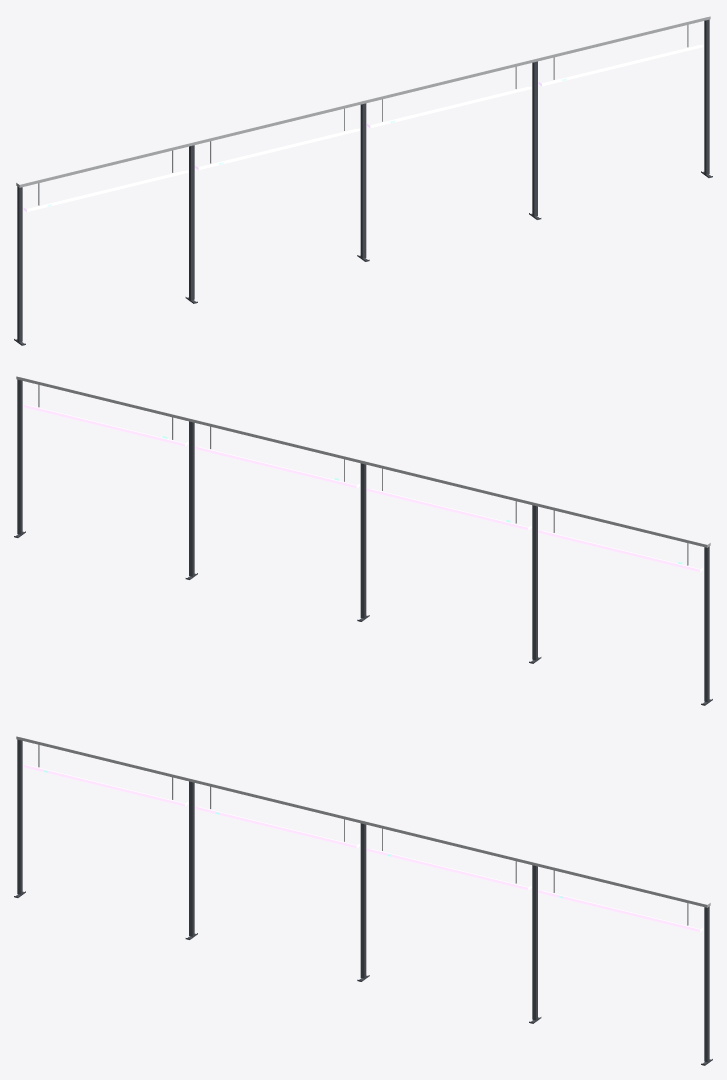
Rendered from ext_grow_light_rack_05.glb.
3 views of the same model, one above another, from view 1: azimuth 30°, elevation 25°; view 2: azimuth 150°, elevation 25°; view 3: azimuth 330°, elevation 25° (orthographic).
Parts seen in each view (by area): view 1: Posts, Top_Beam, Light_Bars; view 2: Posts, Top_Beam, Light_Bars; view 3: Posts, Top_Beam, Light_Bars.
Boxes of the visible parts, left/top/right/bottom form: Posts: left=17, top=19, right=709, bottom=342; Top_Beam: left=16, top=16, right=710, bottom=187; Light_Bars: left=23, top=44, right=703, bottom=211; Posts: left=17, top=379, right=709, bottom=702; Top_Beam: left=16, top=376, right=710, bottom=547; Light_Bars: left=23, top=404, right=703, bottom=571; Posts: left=17, top=739, right=709, bottom=1062; Top_Beam: left=16, top=736, right=710, bottom=907; Light_Bars: left=23, top=764, right=703, bottom=931.
Bounding box in the file's own units: 10 × 2.2 × 0.2.
